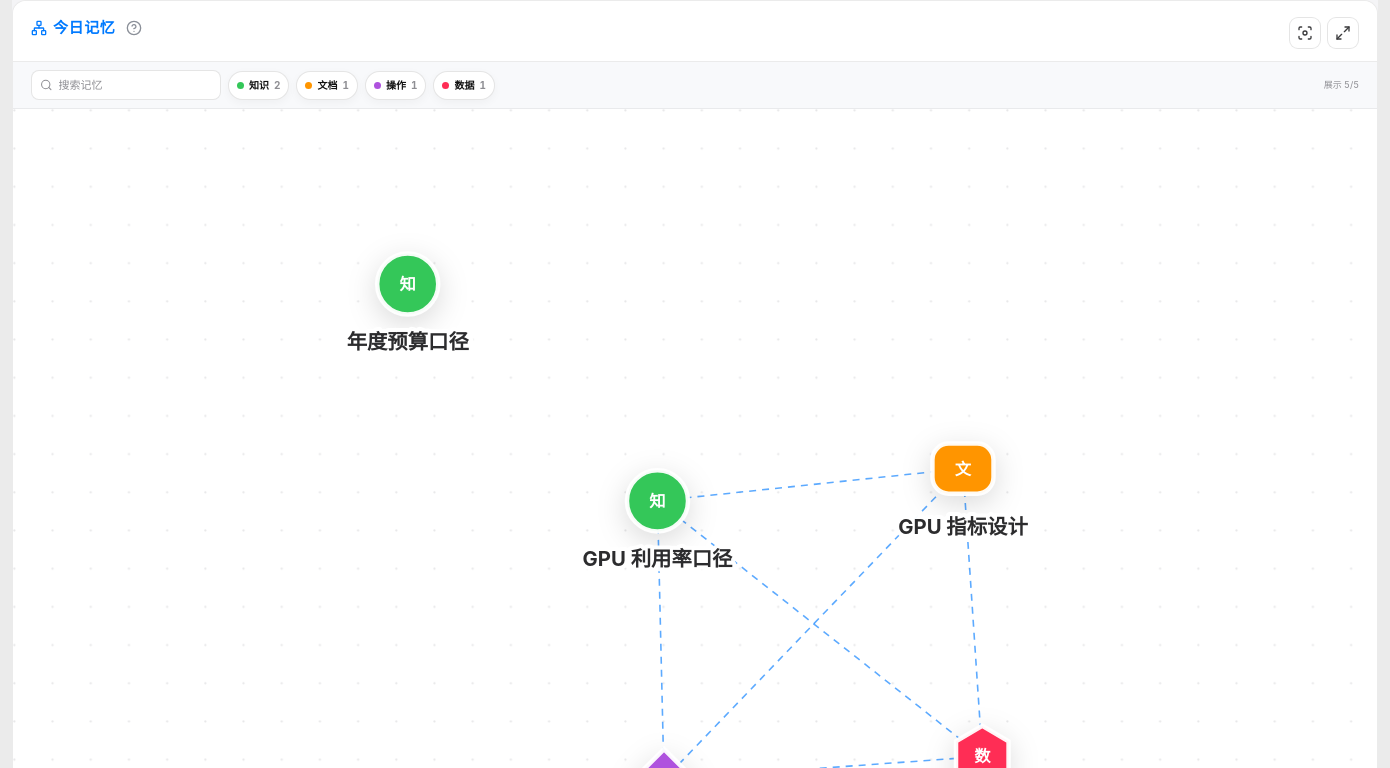
BakeMemoryGraph › 总览支持搜索记忆节点
The width and height of the screenshot is (1390, 768).
Type "年度预算" into the search field named "搜索记忆图谱" at [135, 85], box [58,77,212,93]
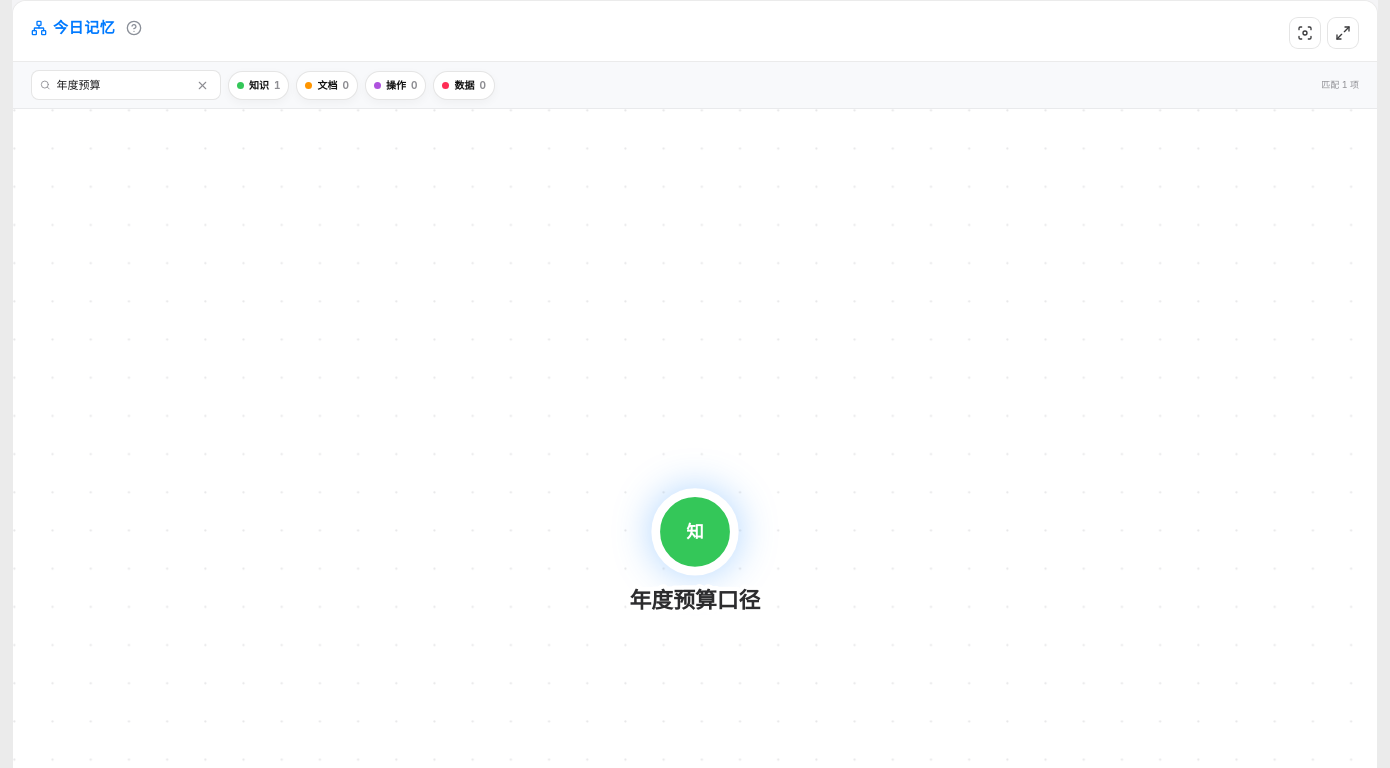
Now the text "匹配 1 项" is shown, box [1321,78,1359,92]
